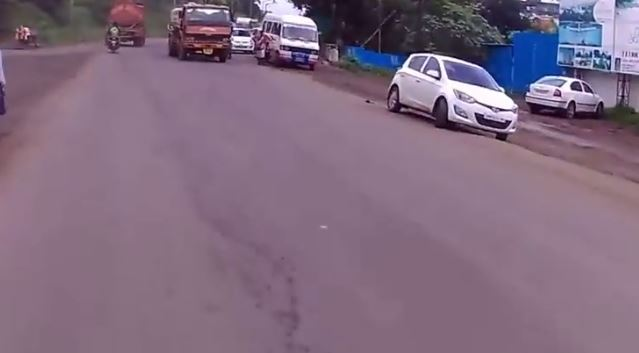car: (378, 43, 522, 150), (522, 63, 614, 128), (229, 22, 256, 56)
